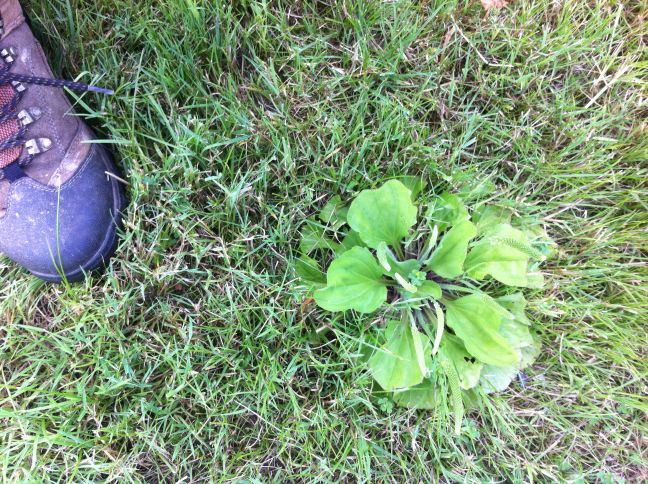weed1: (303, 173, 538, 419)
